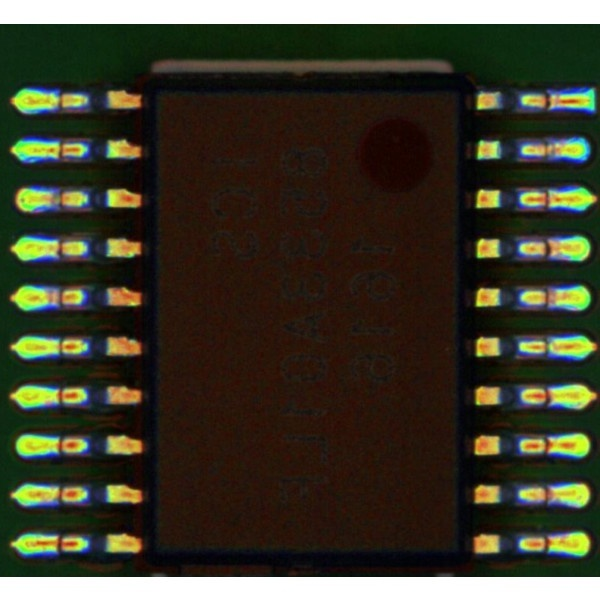Bad_podu: (39, 242, 73, 256), (533, 290, 565, 304), (532, 242, 566, 255), (532, 390, 572, 401), (41, 144, 72, 157), (532, 439, 562, 452), (531, 140, 558, 154), (531, 194, 568, 204), (39, 490, 73, 500), (533, 95, 566, 105), (42, 538, 72, 549), (533, 342, 565, 352), (44, 291, 73, 302), (536, 491, 563, 501), (533, 540, 565, 548)
